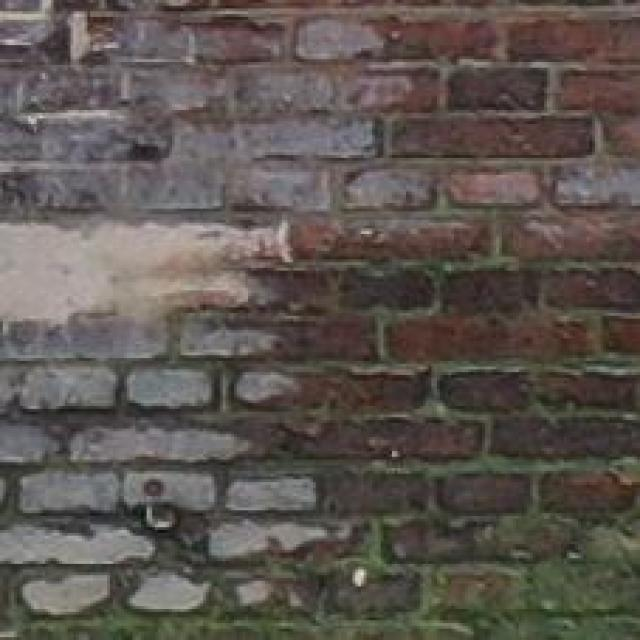Crack: (0, 149, 292, 527)
